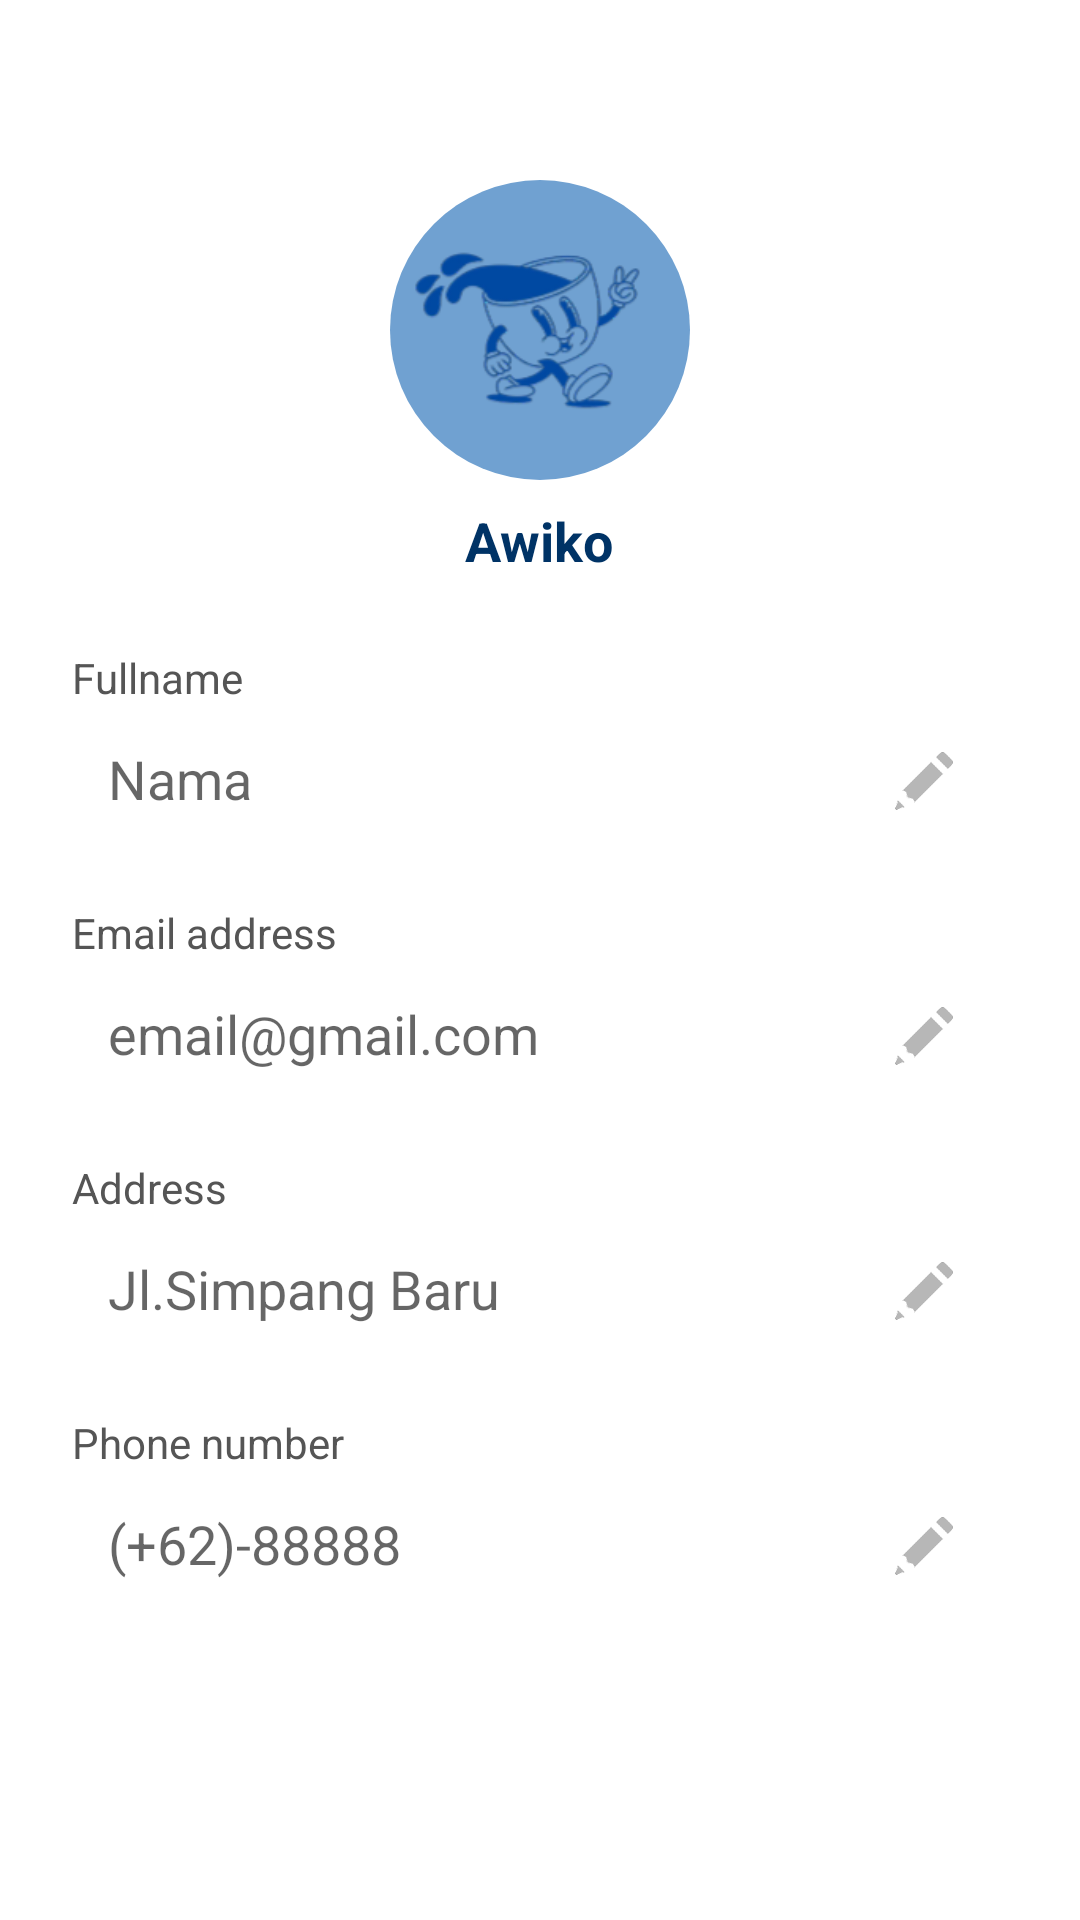

Icon click points for this 1080 × 1920 phone screenshot, format (x=x, y=y):
Avatar: (x=540, y=330)
